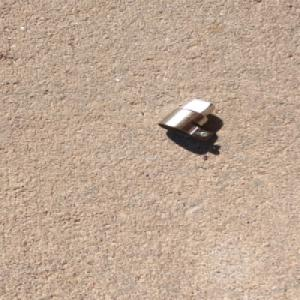MetalPart: (155, 97, 216, 142)
